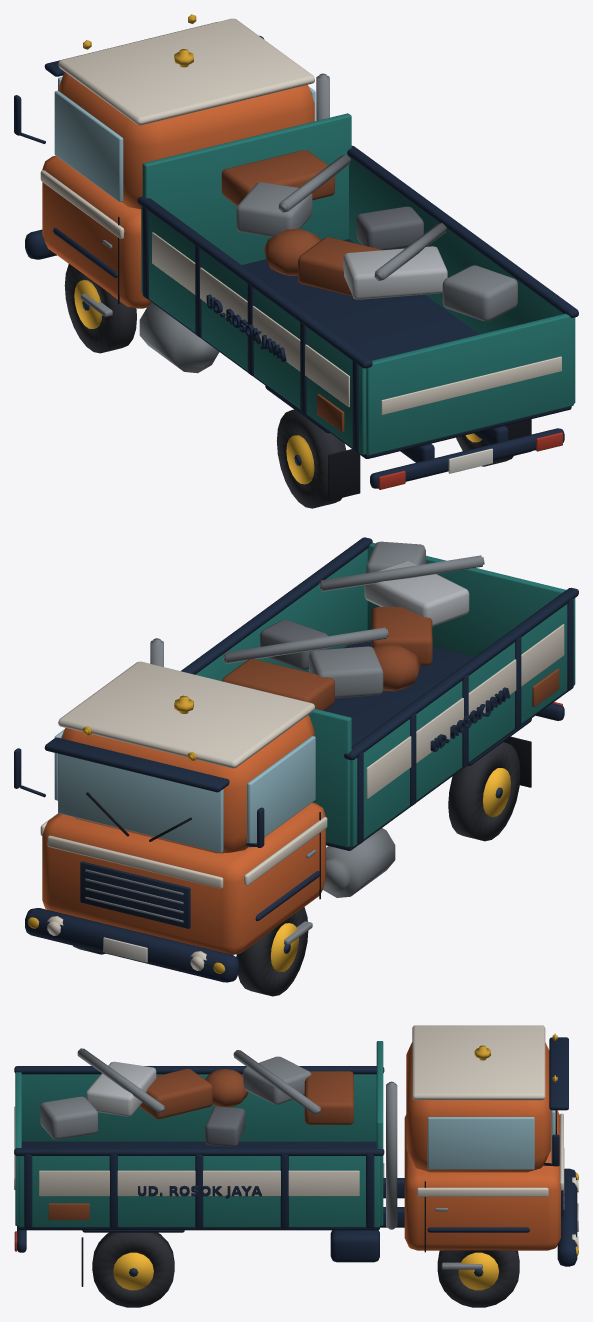
File: EngkelKartun.fbx
3 renders of one model, top to bottom at view 1: azimuth 30°, elevation 25°; view 2: azimuth 150°, elevation 25°; view 3: azimuth 270°, elevation 25°, orthographic. The views are drawn at different scales.
Parts seen in each view (by area): view 1: Body, Wheel_2L, Wheel_1L; view 2: Body, Wheel_2L, Wheel_1L; view 3: Body, Wheel_2R, Wheel_1R.
Part boxes in pixels (left/top/right/bottom): Body: left=14, top=14, right=578, bottom=500; Wheel_2L: left=277, top=409, right=345, bottom=508; Wheel_1L: left=64, top=264, right=136, bottom=353; Body: left=14, top=537, right=578, bottom=982; Wheel_2L: left=448, top=742, right=520, bottom=841; Wheel_1L: left=236, top=907, right=308, bottom=996; Body: left=14, top=1025, right=578, bottom=1286; Wheel_2R: left=92, top=1232, right=174, bottom=1307; Wheel_1R: left=437, top=1250, right=519, bottom=1307.
Bounding box in the file's own units: 2.83 × 2.98 × 6.88.
